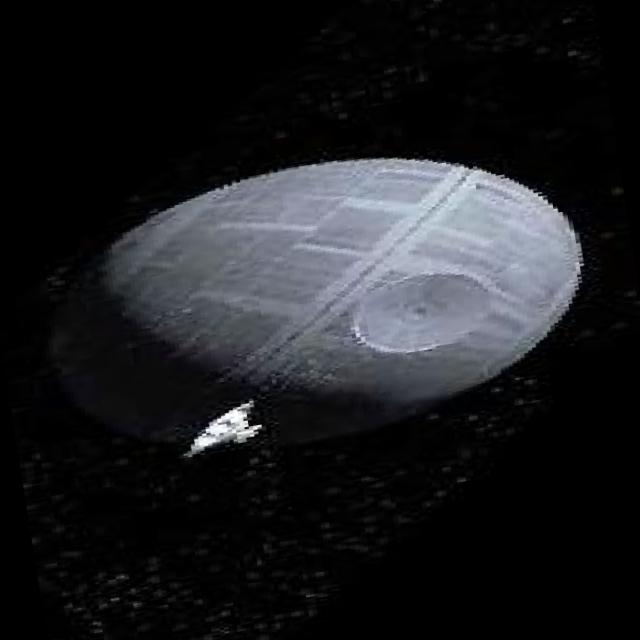Death Star: (36, 132, 602, 478)
